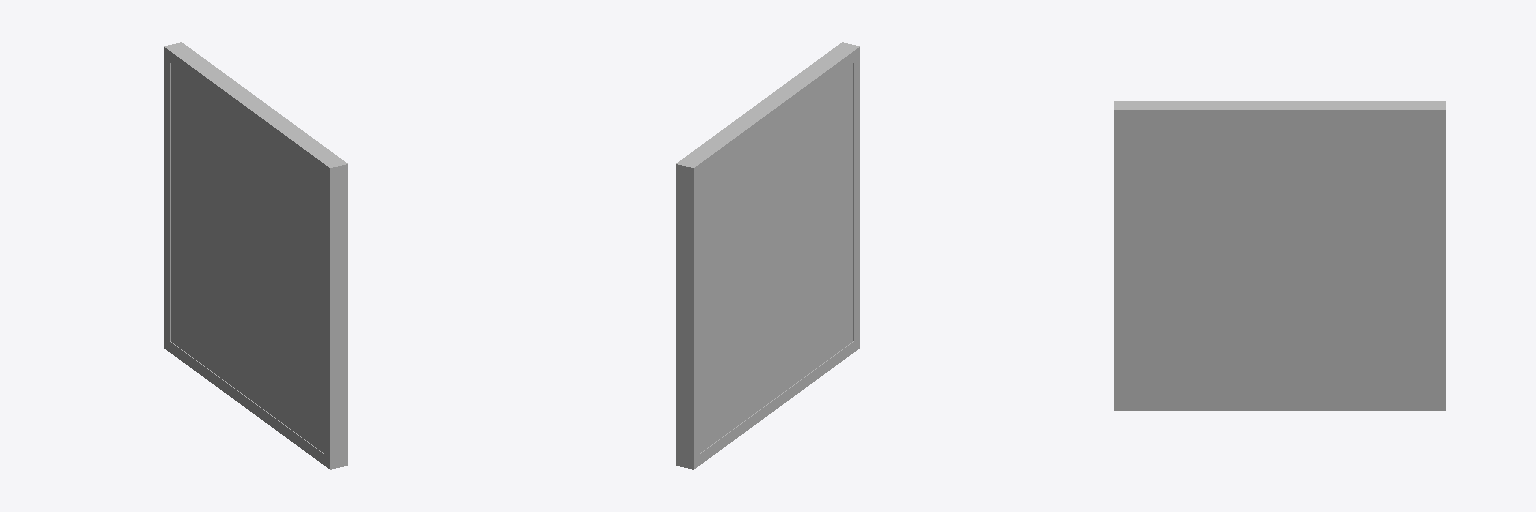
The model's file is display16x16.obj.
The picture shows the model from 3 angles: view 1: azimuth 30°, elevation 25°; view 2: azimuth 150°, elevation 25°; view 3: azimuth 270°, elevation 25°; orthographic projection.
Visible parts, largest first — view 1: Cube_Cube.006; view 2: Cube_Cube.006; view 3: Cube_Cube.006.
Boxes of the visible parts, <box> form: Cube_Cube.006: <box>164,42,347,469</box>; Cube_Cube.006: <box>676,42,859,469</box>; Cube_Cube.006: <box>1114,101,1445,410</box>.
Bounding box in the file's own units: 1 × 16 × 16.